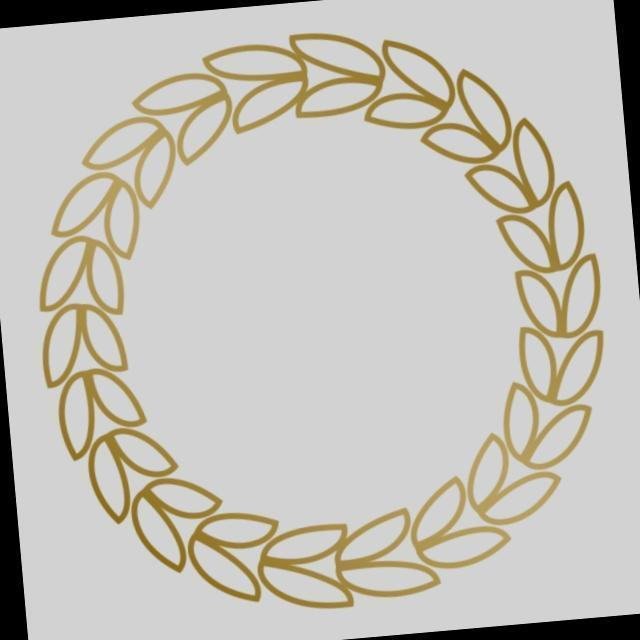Circle: (38, 31, 607, 612)
